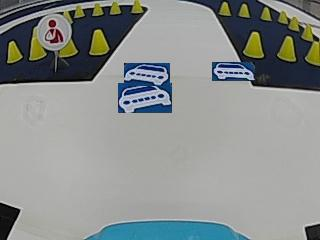cone: (243, 31, 264, 58), (89, 29, 109, 55), (28, 31, 45, 60), (278, 36, 296, 61), (305, 39, 320, 65), (60, 36, 77, 57), (7, 40, 22, 62), (300, 23, 313, 40), (130, 0, 143, 14), (218, 2, 231, 15), (109, 1, 121, 15), (238, 3, 250, 17), (288, 15, 299, 30), (91, 3, 103, 16), (260, 7, 271, 21), (74, 5, 85, 17), (278, 10, 288, 23)
patient: (36, 13, 68, 48)
